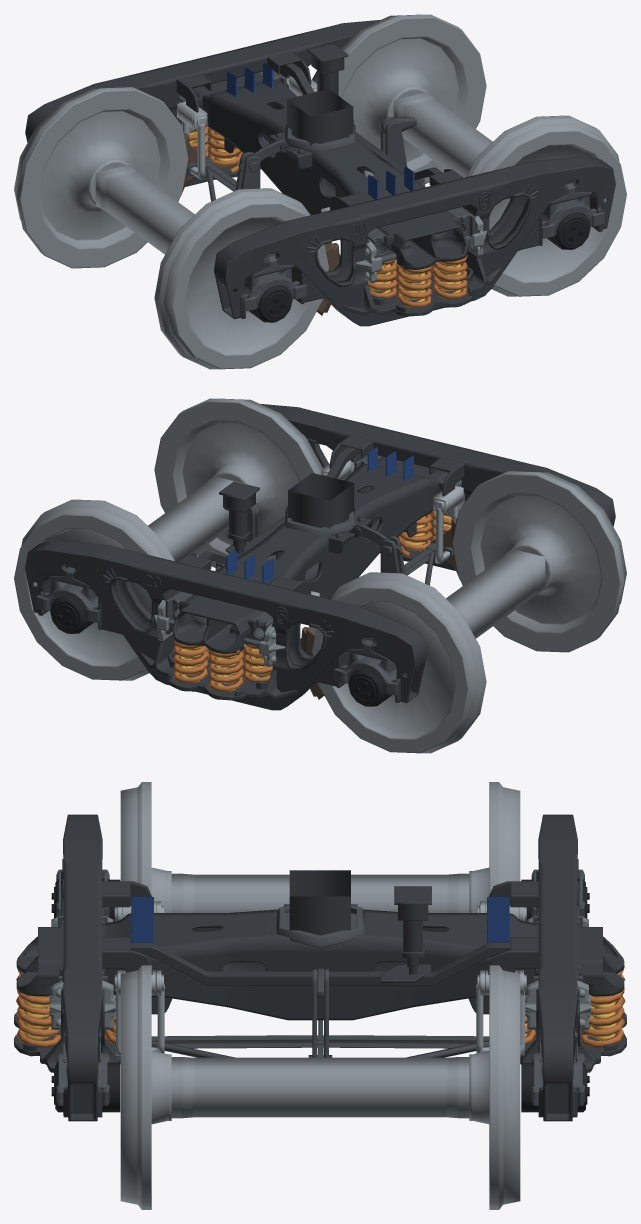
Rendered from bogie_tk.glb.
The picture shows the model from 3 angles, top to bottom: view 1: azimuth 30°, elevation 25°; view 2: azimuth 150°, elevation 25°; view 3: azimuth 270°, elevation 25°; orthographic projection. The views are drawn at different scales.
Parts seen in each view (by area): view 1: bg_wheel_n, bg_bolster, bg_side_frame_n, bg_wheel_p, bg_side_frame_p, bg_axle_n, bg_spring_outer_n, bg_adapter_nn, bg_adapter_pn, bg_side_bearer, bg_hanger_n, bg_lever_p (+11 smaller); view 2: bg_wheel_n, bg_bolster, bg_side_frame_p, bg_wheel_p, bg_side_frame_n, bg_axle_n, bg_spring_outer_p, bg_adapter_np, bg_adapter_pp, bg_side_bearer, bg_hanger_n, bg_lever_n (+10 smaller); view 3: bg_bolster, bg_wheel_p, bg_side_frame_n, bg_side_frame_p, bg_axle_n, bg_wheel_n, bg_triangel_p, bg_hanger_p, bg_side_bearer, bg_spring_outer_p, bg_spring_outer_n, bg_center_bowl (+8 smaller).
Part boxes in pixels (x1,y1,x2,y2): bg_wheel_n: (14, 87, 328, 369); bg_bolster: (176, 43, 492, 269); bg_side_frame_n: (214, 156, 615, 326); bg_wheel_p: (338, 14, 626, 296); bg_side_frame_p: (25, 20, 379, 186); bg_axle_n: (95, 165, 194, 254); bg_spring_outer_n: (368, 255, 467, 306); bg_adapter_nn: (242, 246, 315, 311); bg_adapter_pn: (529, 183, 604, 238); bg_side_bearer: (226, 63, 414, 199); bg_hanger_n: (177, 101, 329, 212); bg_lever_p: (380, 117, 416, 166); bg_wheel_n: (312, 471, 626, 753); bg_bolster: (148, 435, 464, 653); bg_side_frame_p: (25, 540, 426, 710); bg_wheel_p: (14, 398, 322, 680); bg_side_frame_n: (261, 404, 615, 570); bg_axle_n: (446, 549, 545, 638); bg_spring_outer_p: (173, 639, 272, 690); bg_adapter_np: (325, 630, 398, 695); bg_adapter_pp: (36, 567, 111, 622); bg_side_bearer: (226, 447, 414, 583); bg_hanger_n: (311, 485, 463, 596); bg_lever_n: (353, 523, 405, 574); bg_bolster: (16, 870, 624, 1118); bg_wheel_p: (120, 965, 520, 1209); bg_side_frame_n: (14, 814, 120, 1121); bg_side_frame_p: (520, 814, 626, 1121); bg_axle_n: (171, 873, 469, 912); bg_wheel_n: (120, 782, 520, 915); bg_triangel_p: (151, 1035, 489, 1057); bg_hanger_p: (114, 970, 526, 1055); bg_side_bearer: (128, 897, 512, 943); bg_spring_outer_p: (525, 966, 625, 1047); bg_spring_outer_n: (16, 970, 115, 1047); bg_center_bowl: (276, 905, 364, 948).
Size of the model in its own units: 2.87 by 1.12 by 2.6.
